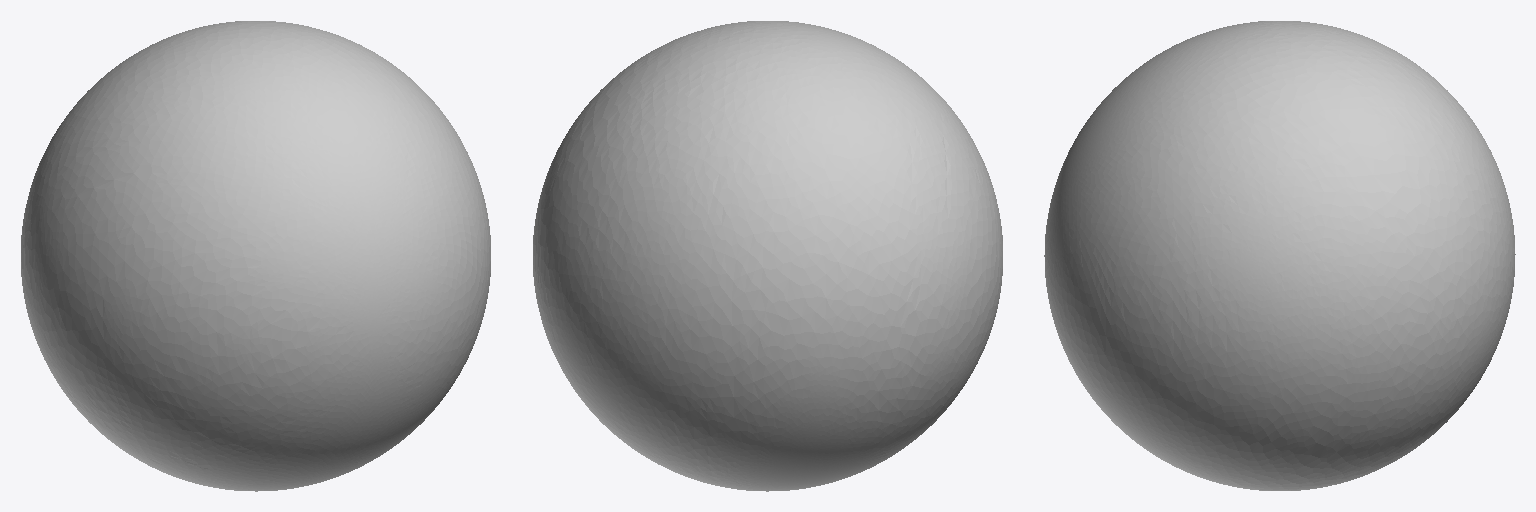
Rendered from map_to_sphere.obj.
3 views of the same model, side by side, from view 1: azimuth 30°, elevation 25°; view 2: azimuth 150°, elevation 25°; view 3: azimuth 270°, elevation 25° (orthographic).
Size of the model in its own units: 2 by 2 by 2.